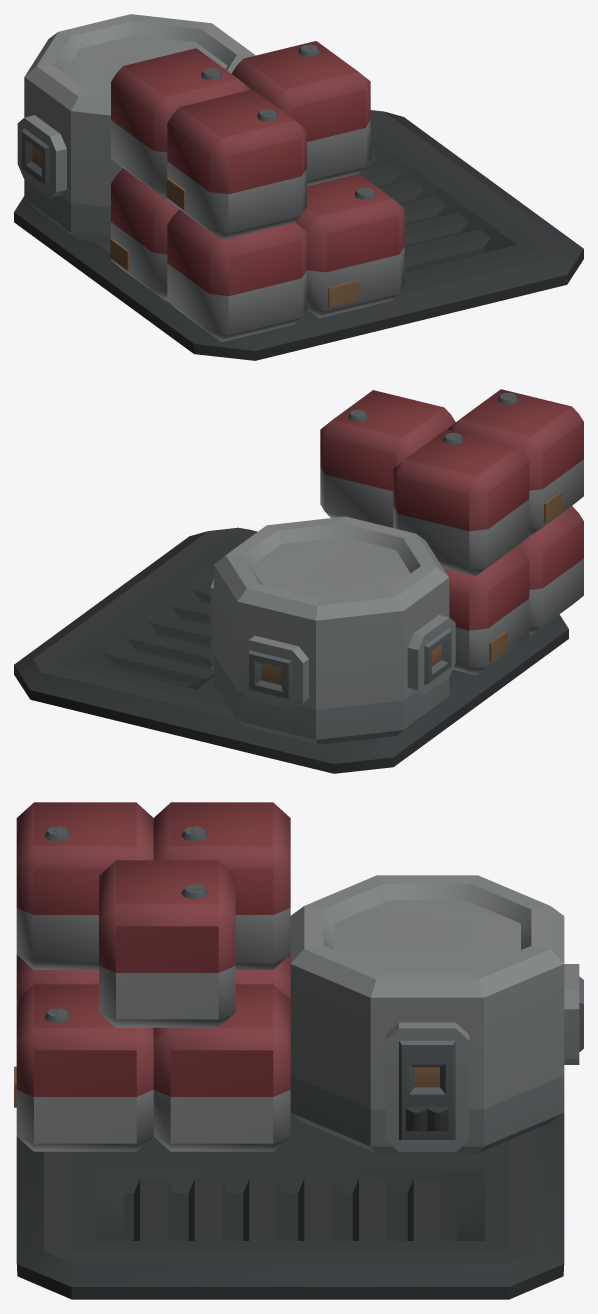
Rendered from trading-post-dhsNWjXa.glb.
3 views of the same model, one above another, from view 1: azimuth 30°, elevation 25°; view 2: azimuth 150°, elevation 25°; view 3: azimuth 270°, elevation 25° (orthographic). The views are drawn at different scales.
Parts seen in each view (by area): view 1: cargodepot_A; view 2: cargodepot_A; view 3: cargodepot_A.
Boxes of the visible parts, <box> form: cargodepot_A: <box>14,14,583,360</box>; cargodepot_A: <box>14,389,583,773</box>; cargodepot_A: <box>14,802,583,1299</box>.
Size of the model in its own units: 2.07 by 1.12 by 2.08.
1 material, 1 textured.
